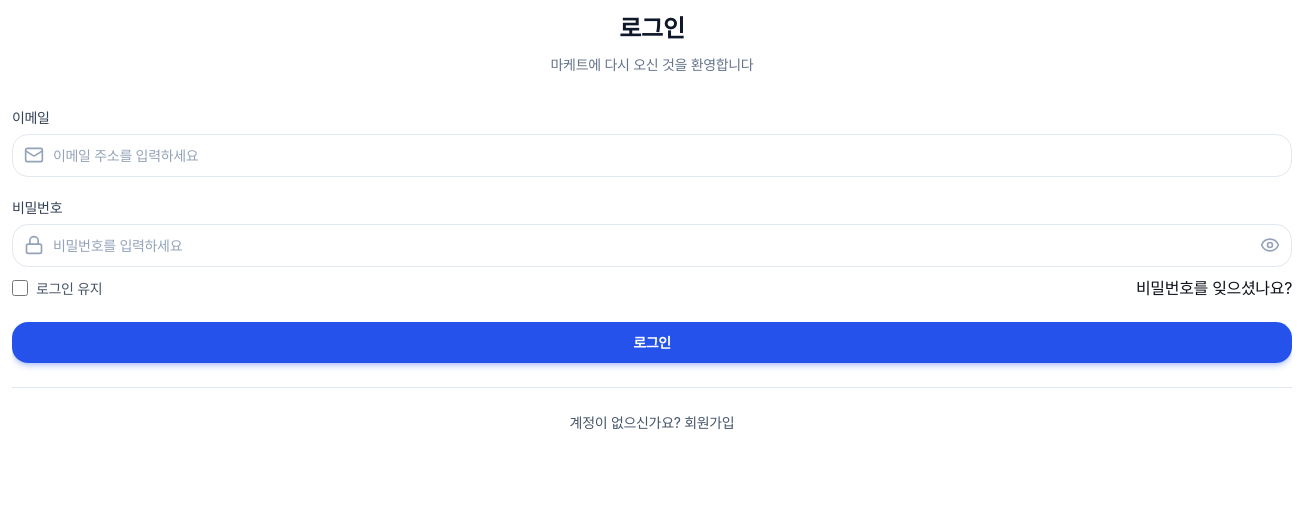
LoginPage › 로그인 실패 › 네트워크 오류 시 에러 메시지를 표시한다
Type "test@example.com" into the field labelled "이메일" at [652, 155], box [12,134,1292,177]
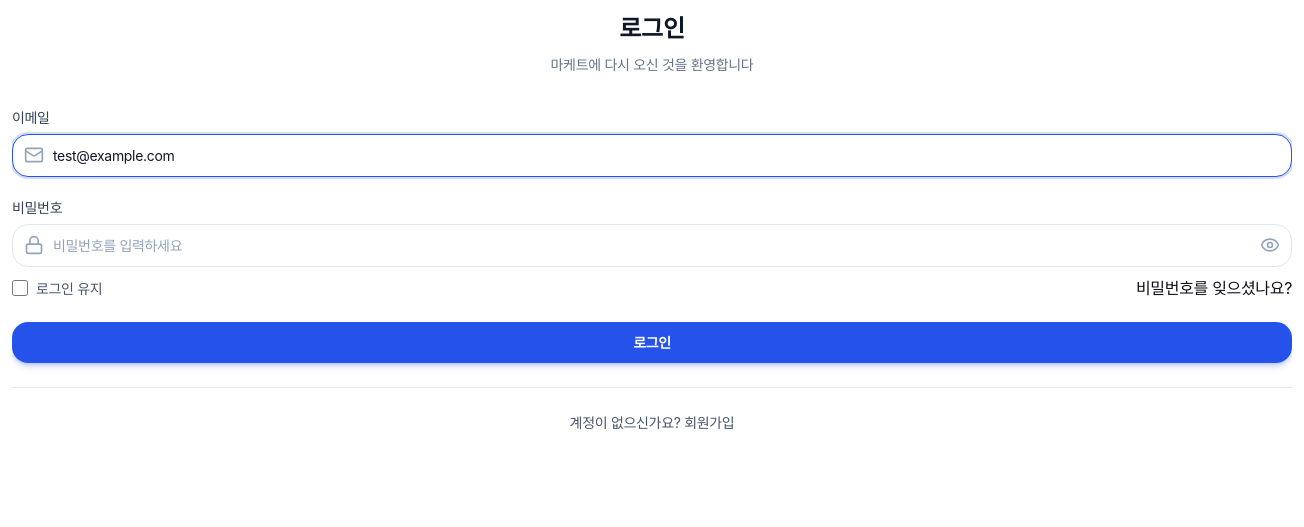
Type "password123" into the password field labelled "비밀번호" at [652, 245], box [12,224,1292,267]
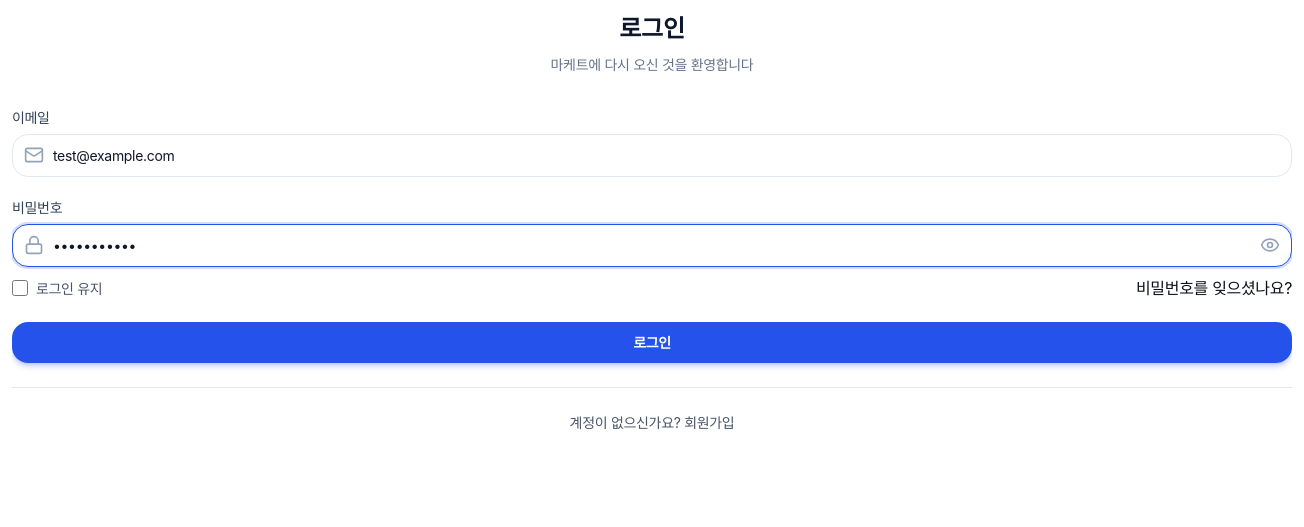
Click the button "로그인" at [652, 342], box [12,322,1292,363]
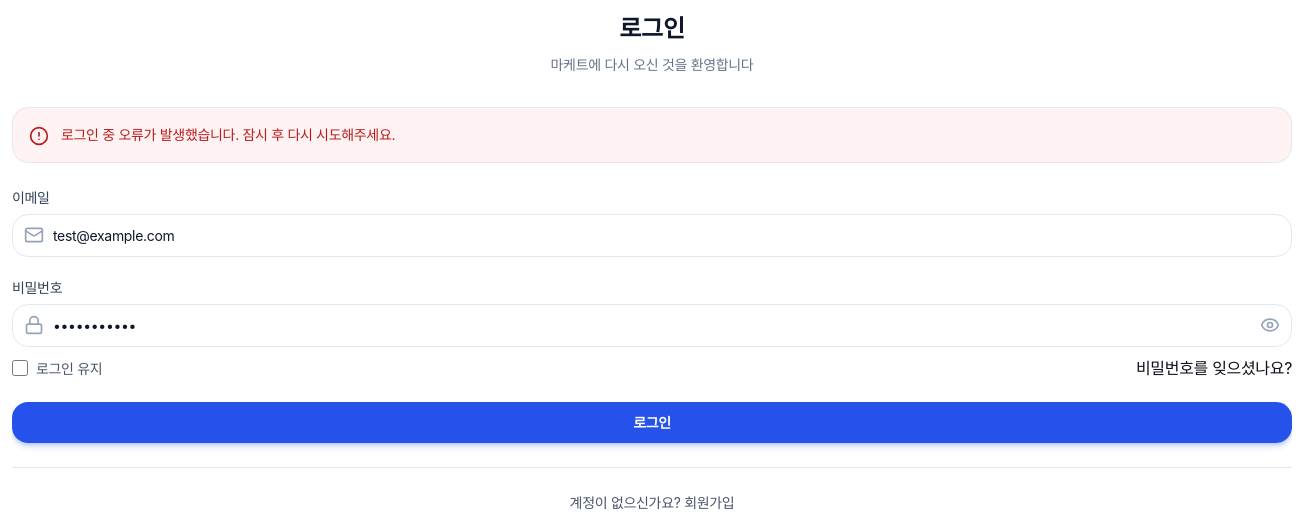
Check: the message "로그인 중 오류가 발생했습니다. 잠시 후 다시 시도해주세요." is shown, box [12,107,1292,163]
Check: the text "로그인 중 오류가 발생했습니다. 잠시 후 다시 시도해주세요." is shown, box [61,124,395,145]
